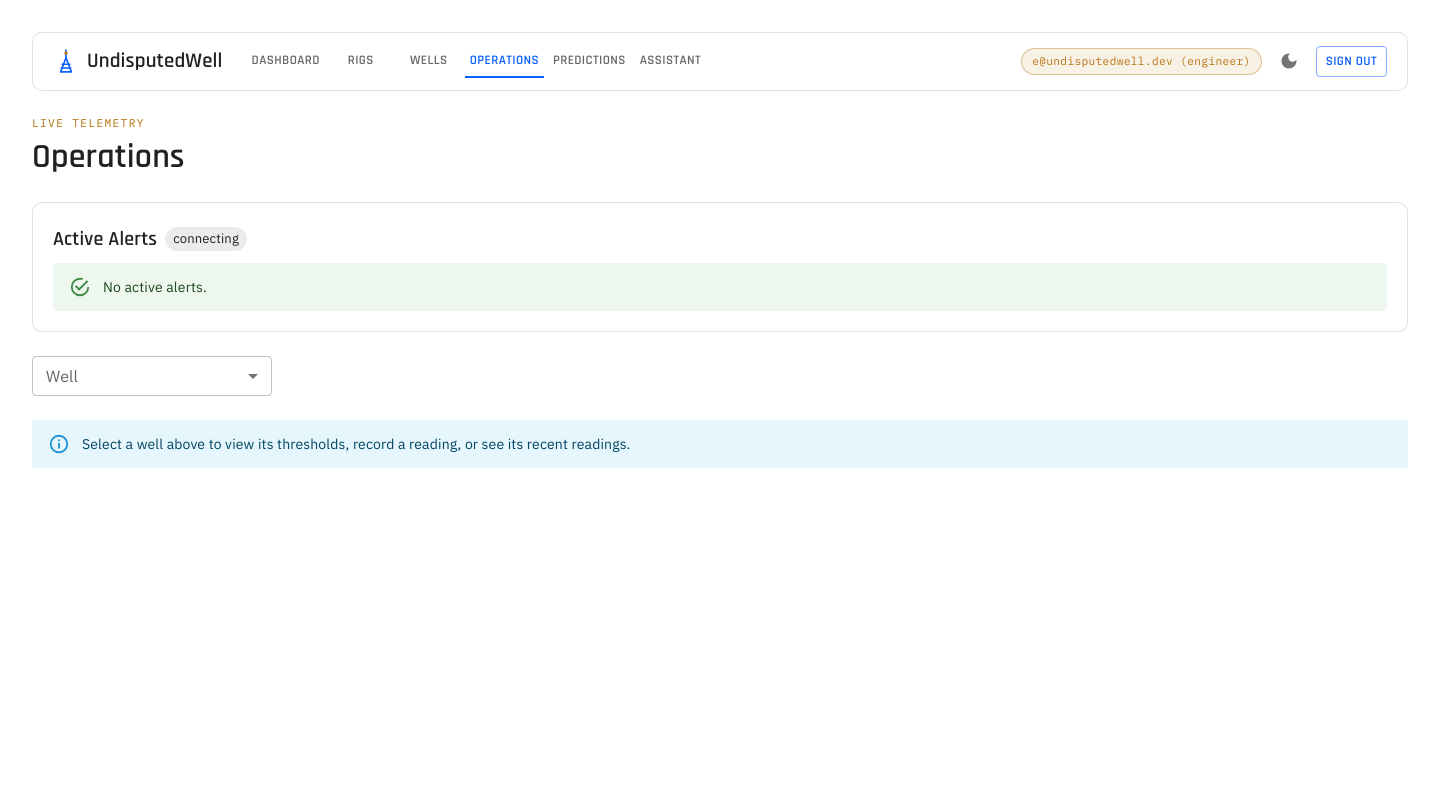
OperationsPage › updates the well selection when a well is chosen from the dropdown
Click the dropdown named "Well".
click(152, 376)  # box [32,356,272,396]
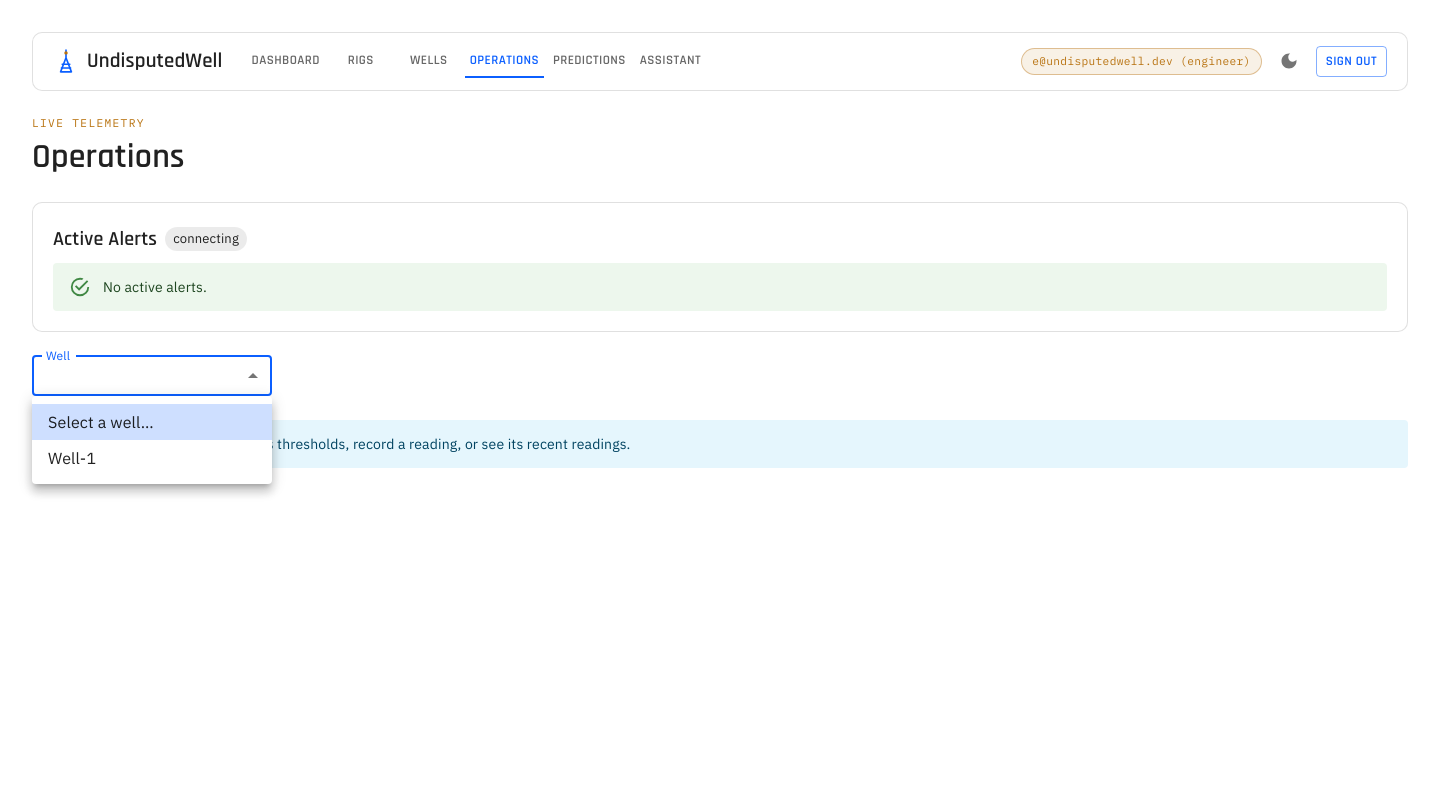
Click the option "Well-1".
click(72, 458)  # box [48,448,96,468]
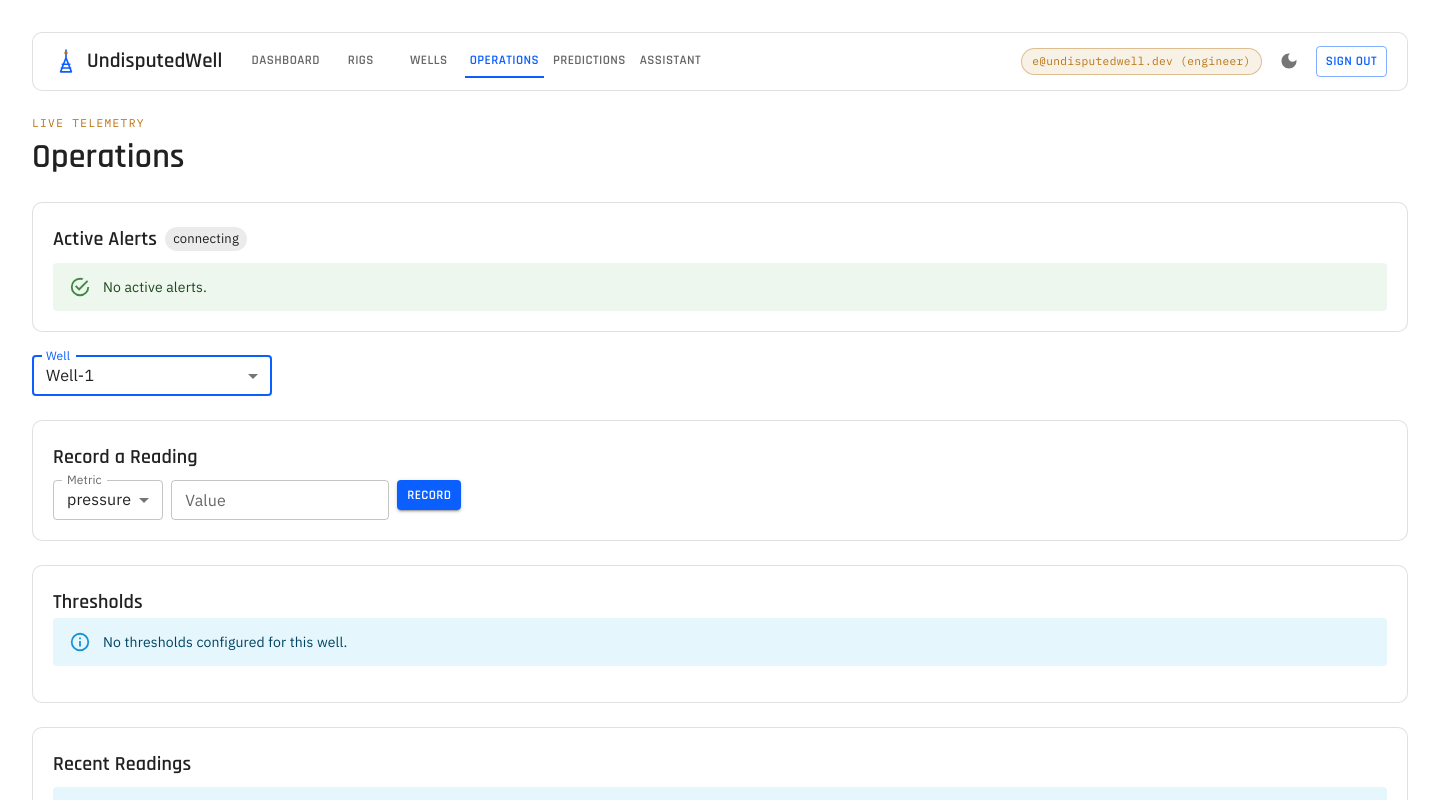
Expected: the heading "Thresholds" is shown, [53,586,143,618]
